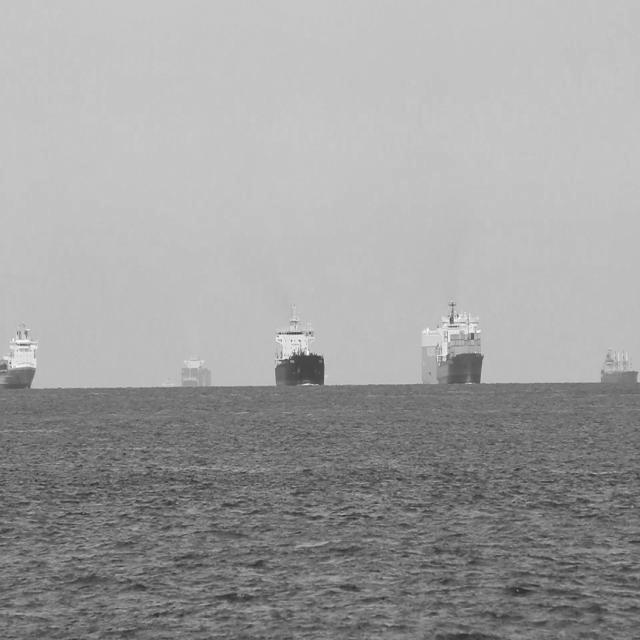ship: (419, 294, 486, 389), (274, 296, 325, 390), (0, 322, 42, 396), (602, 347, 639, 387), (184, 348, 213, 392), (166, 375, 186, 393)
